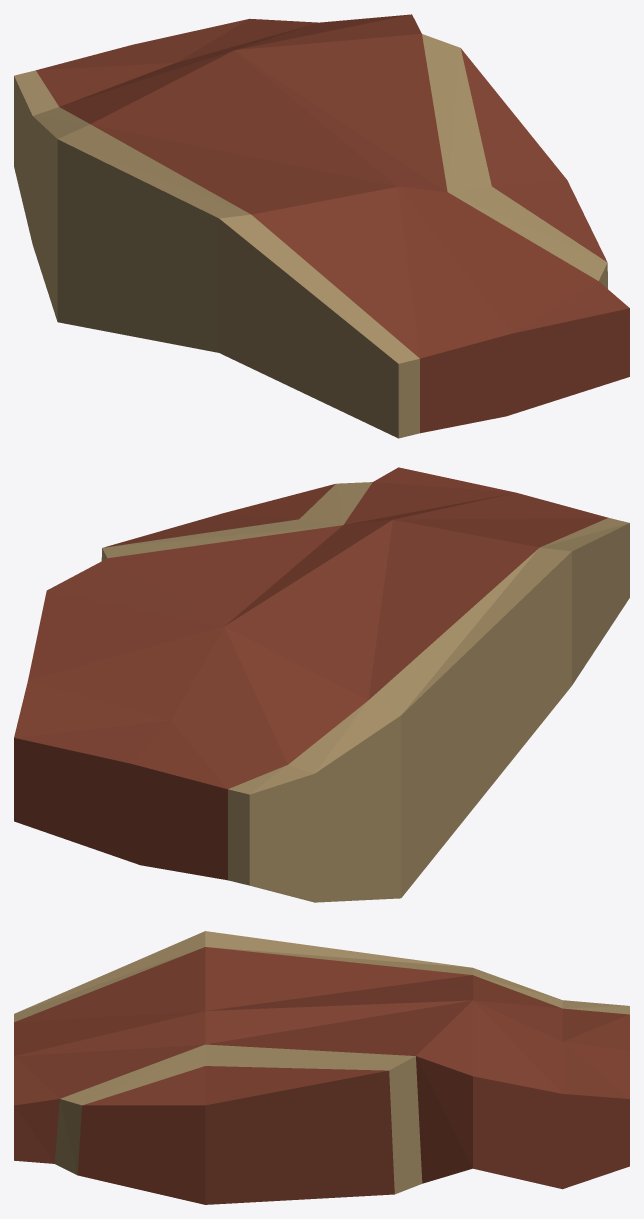
The model's file is SM_Prop_Meat_03.gltf.
The picture shows the model from 3 angles, top to bottom: view 1: azimuth 30°, elevation 25°; view 2: azimuth 150°, elevation 25°; view 3: azimuth 270°, elevation 25°; orthographic projection. The views are drawn at different scales.
Parts seen in each view (by area): view 1: SM_Prop_Meat_03; view 2: SM_Prop_Meat_03; view 3: SM_Prop_Meat_03.
Part boxes in pixels (x1,y1,x2,y2): SM_Prop_Meat_03: (14, 14, 629, 438); SM_Prop_Meat_03: (14, 467, 629, 902); SM_Prop_Meat_03: (14, 931, 629, 1204).
Size of the model in its own units: 0.2682 by 0.167 by 0.4948.
1 material, 1 textured.
